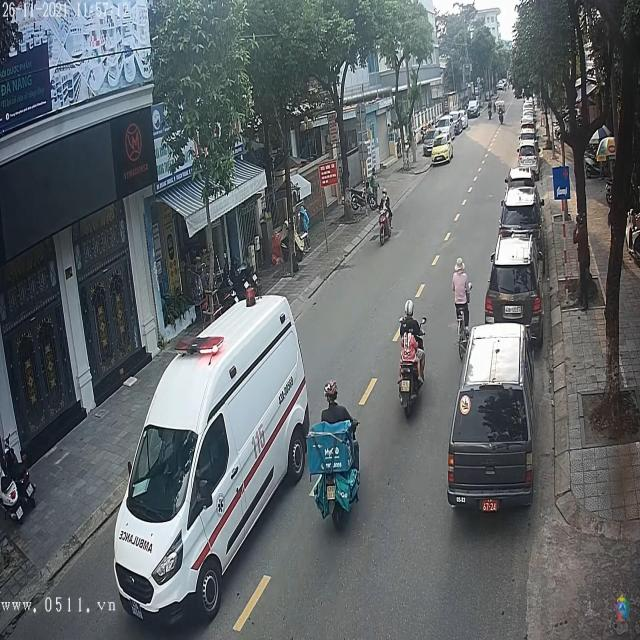car: (114, 285, 314, 626), (450, 323, 534, 512), (486, 234, 543, 333), (499, 187, 542, 238), (517, 146, 538, 169), (468, 99, 481, 118)
motorcycle: (318, 414, 363, 534), (397, 329, 428, 421), (378, 203, 393, 244)
